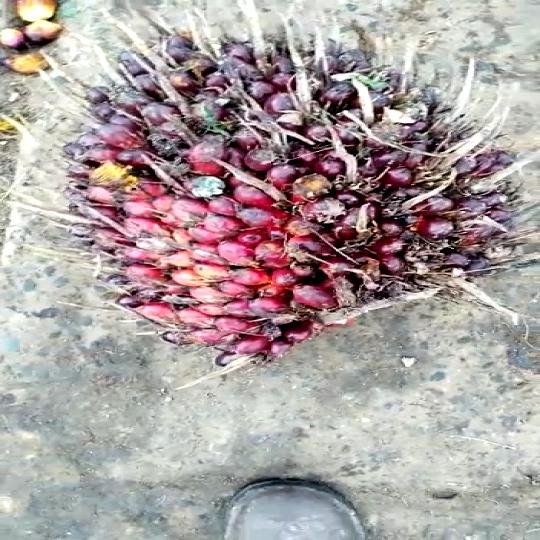masak: (63, 34, 515, 366)
